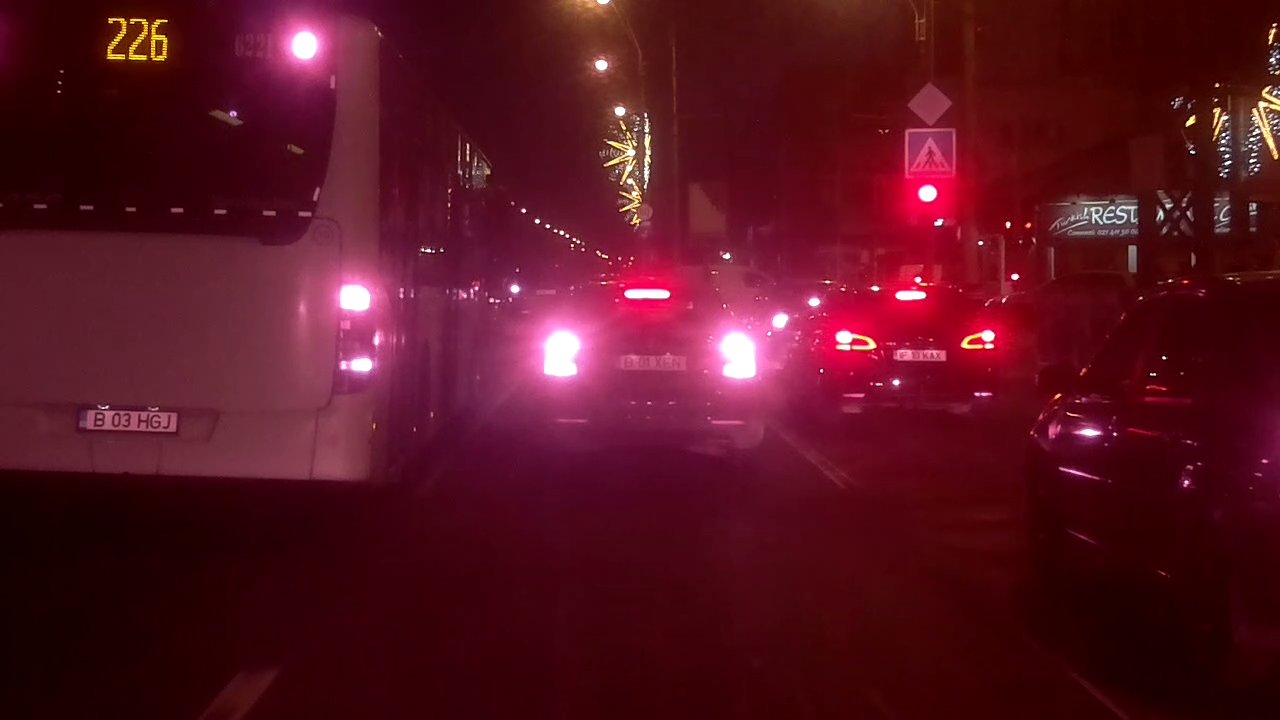license-plate: (73, 404, 181, 436), (615, 351, 689, 372), (891, 346, 949, 363)
